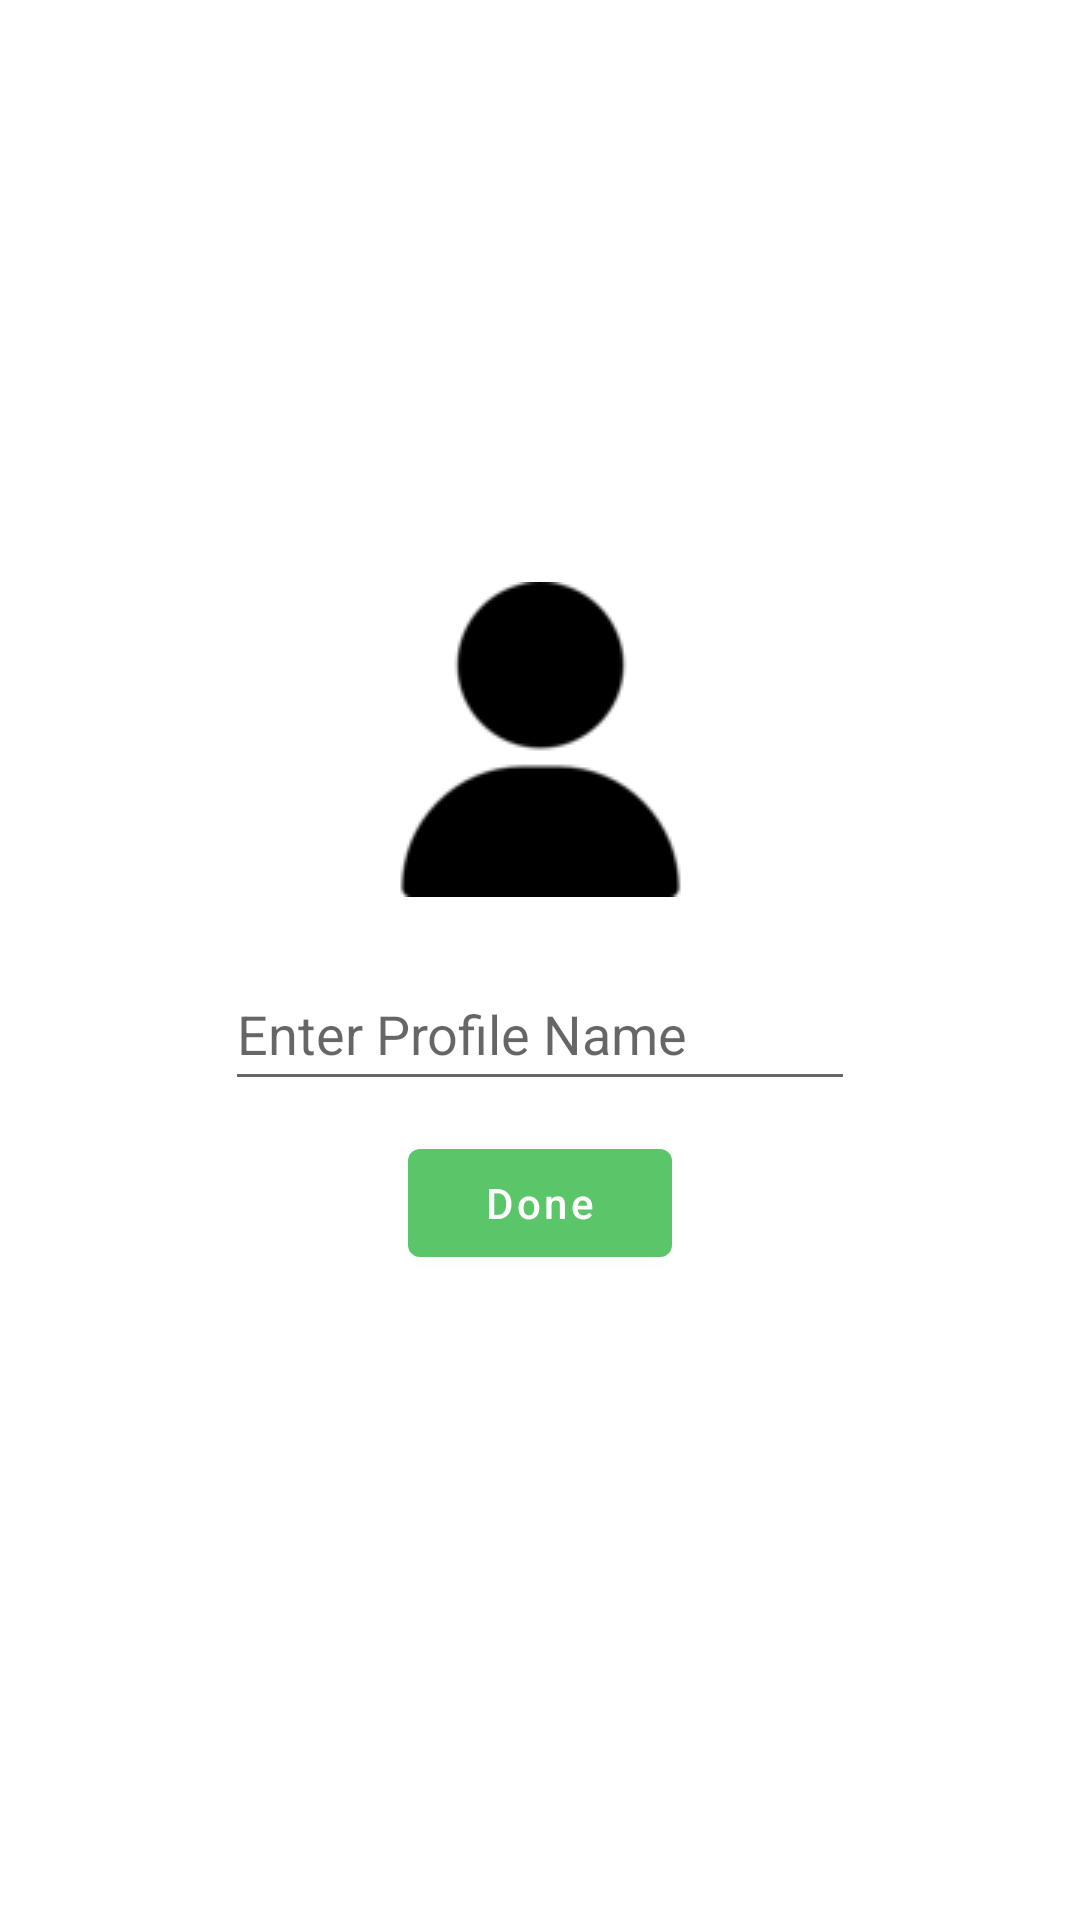

Screen size 1080 × 1920. Icon name, then its center in pixels as (x=x, y=y):
User Profile: (x=540, y=739)
